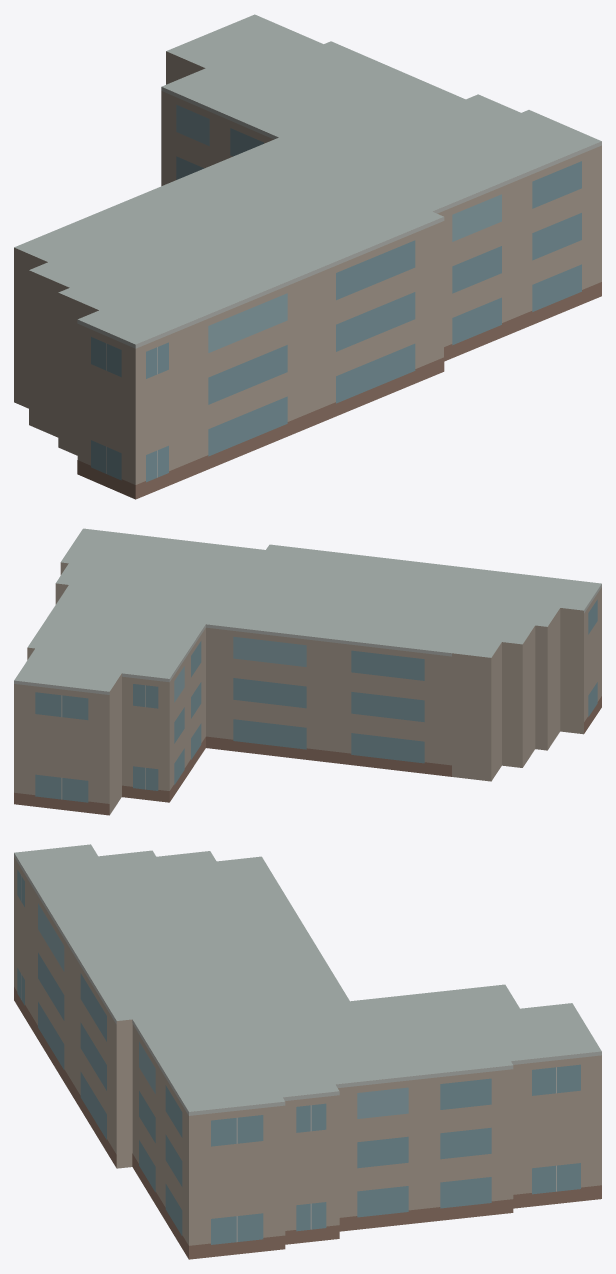
File: survey-upis-32780975.glb
3 renders of one model, top to bottom at view 1: azimuth 30°, elevation 25°; view 2: azimuth 150°, elevation 25°; view 3: azimuth 270°, elevation 25°, orthographic. The views are drawn at different scales.
Parts seen in each view (by area): view 1: survey-upis-32780975.tmp; view 2: survey-upis-32780975.tmp; view 3: survey-upis-32780975.tmp.
Boxes of the visible parts, left/top/right/bottom form: survey-upis-32780975.tmp: left=14, top=14, right=601, bottom=499; survey-upis-32780975.tmp: left=14, top=528, right=601, bottom=815; survey-upis-32780975.tmp: left=14, top=844, right=601, bottom=1259.
Bounding box in the file's own units: 35.61 × 9.15 × 33.05.
